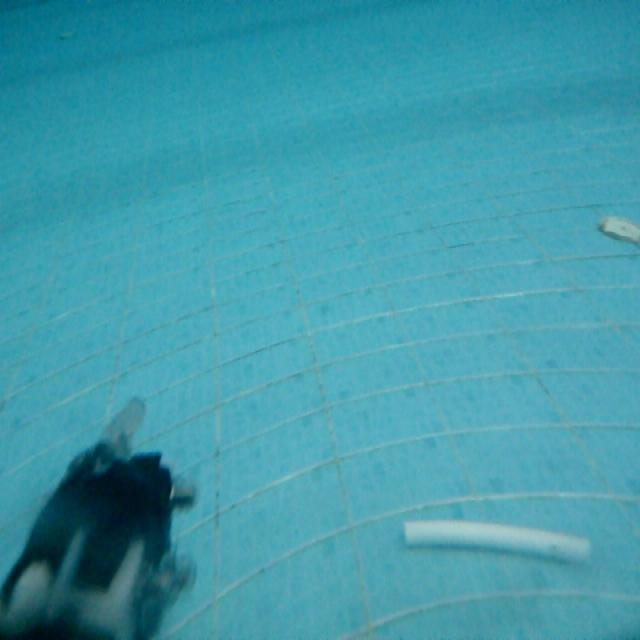Cube: (400, 512, 592, 567)
